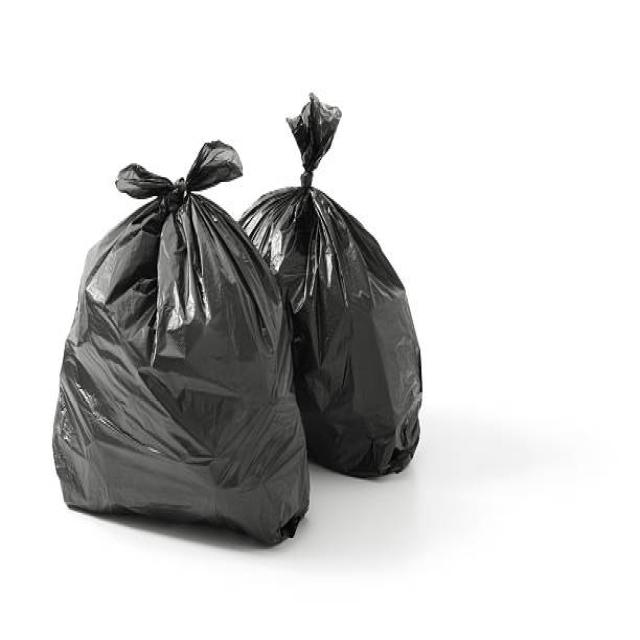trash: (59, 122, 430, 550)
